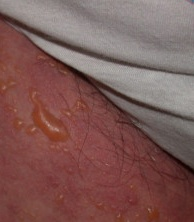SJS-TEN: (0, 11, 194, 222)
